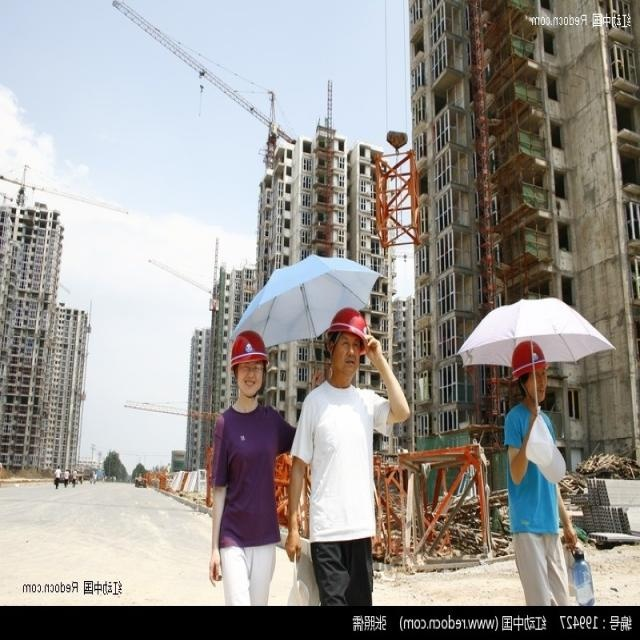Sin_Chaleco: (309, 383, 375, 545), (217, 396, 279, 552)
